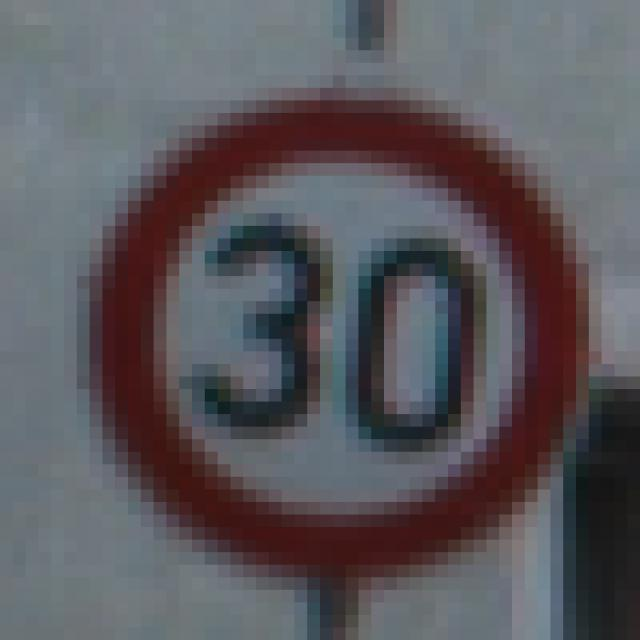Ograniczenie predkosci do 30: (99, 98, 582, 573)
